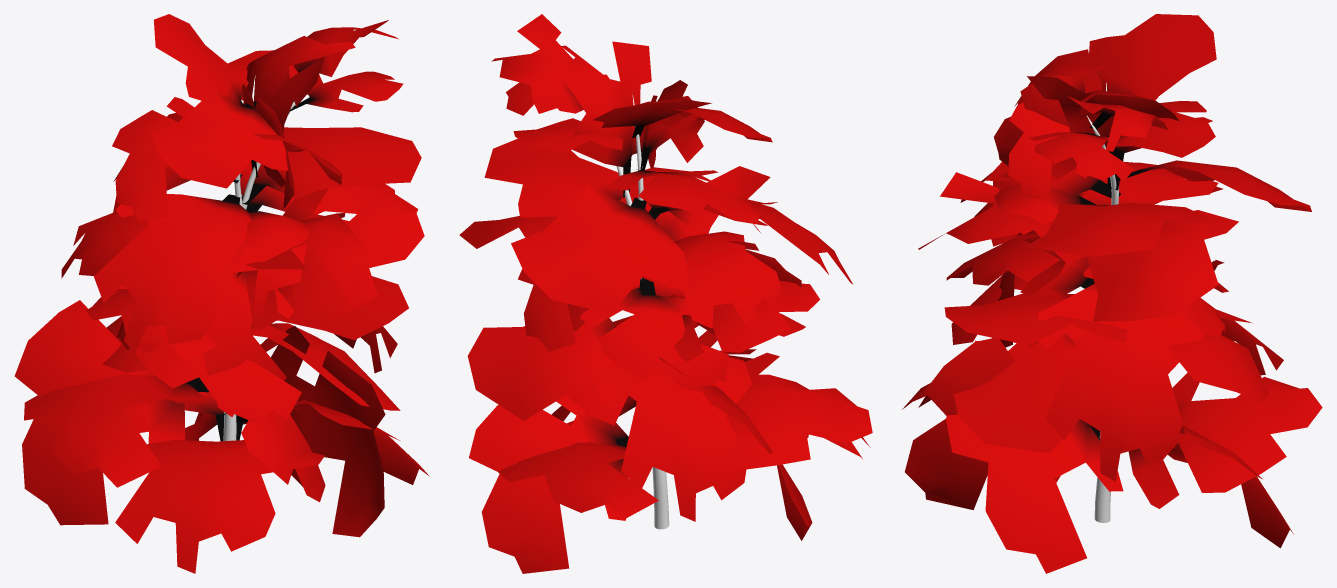
The model's file is Bush_Tree.FBX.
3 views of the same model, side by side, from view 1: azimuth 30°, elevation 25°; view 2: azimuth 150°, elevation 25°; view 3: azimuth 270°, elevation 25° (orthographic). The views are drawn at different scales.
Parts seen in each view (by area): view 1: Bush_Tree; view 2: Bush_Tree; view 3: Bush_Tree.
Boxes of the visible parts, x1,y1,x2,y2 form: Bush_Tree: (14, 14, 429, 573); Bush_Tree: (459, 14, 872, 573); Bush_Tree: (902, 14, 1322, 573).
Bounding box in the file's own units: 158 × 154 × 199.
